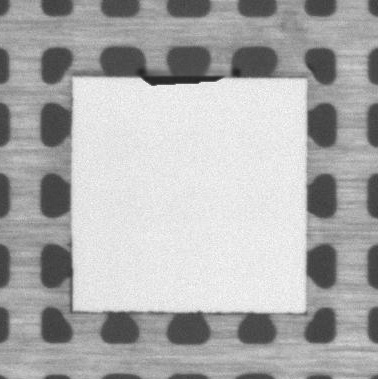DIE_BROKEN: (139, 73, 226, 88)
